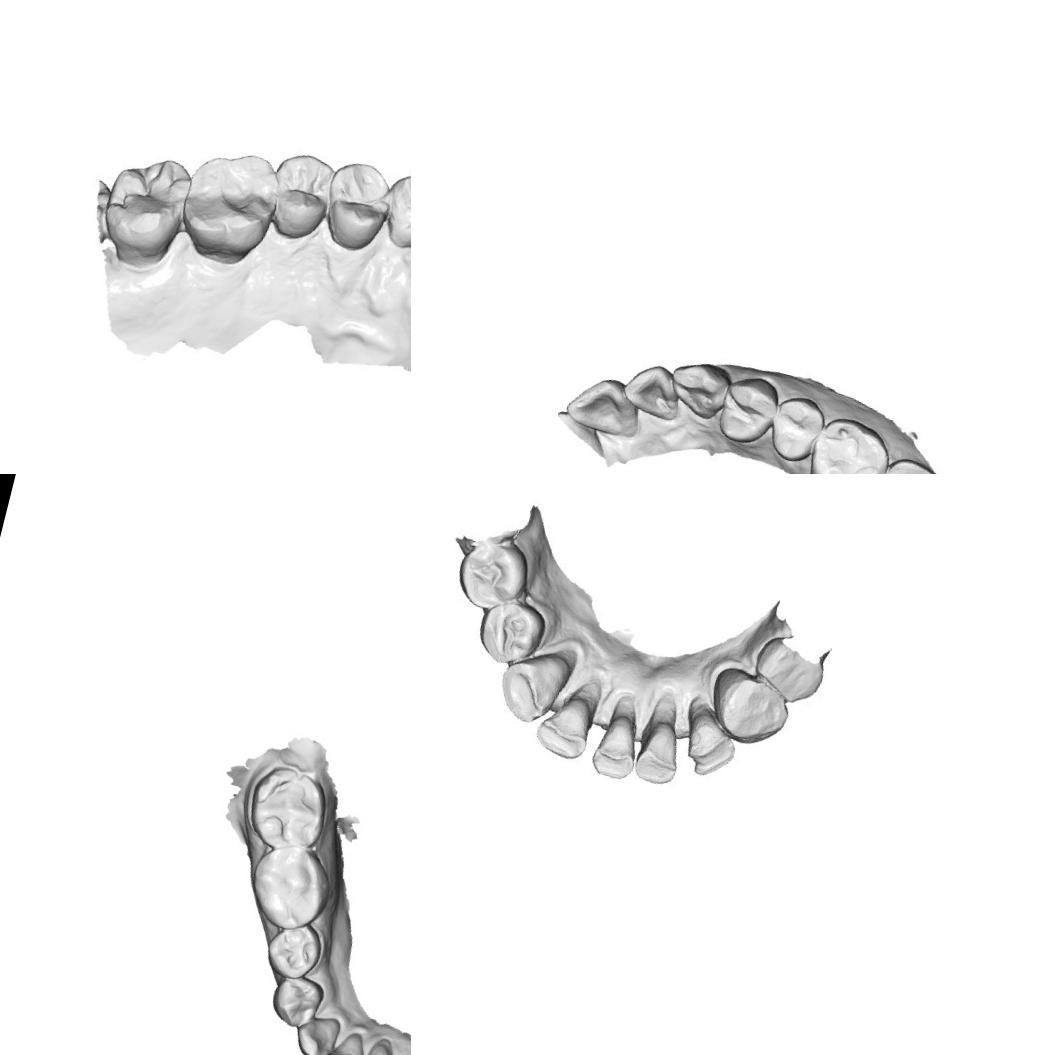canine: (662, 353, 734, 425), (379, 163, 411, 258), (286, 1007, 346, 1055)
crown: (702, 663, 796, 752)
incisor: (496, 640, 579, 725), (559, 368, 646, 446), (630, 689, 698, 788), (538, 665, 604, 760), (674, 694, 744, 777), (592, 692, 654, 780), (618, 358, 686, 422), (318, 1023, 373, 1055), (349, 1030, 404, 1055)
molar: (174, 142, 282, 262), (95, 144, 199, 267), (237, 757, 338, 861), (240, 838, 340, 938), (752, 621, 835, 708), (800, 410, 896, 474), (455, 534, 530, 613), (861, 450, 955, 474)
premolar: (316, 154, 401, 254), (265, 147, 340, 236), (712, 369, 784, 451), (474, 592, 547, 672), (763, 392, 830, 467), (260, 916, 330, 986), (264, 969, 328, 1032)
